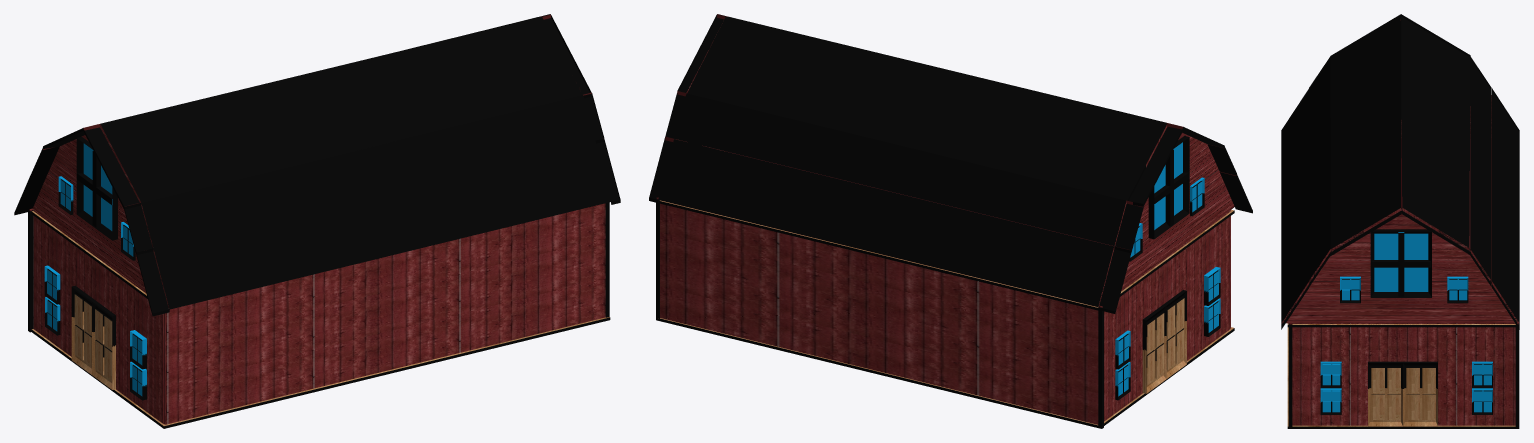
Rendered from Barn1.fbx.
The picture shows the model from 3 angles, left to right: view 1: azimuth 30°, elevation 25°; view 2: azimuth 150°, elevation 25°; view 3: azimuth 270°, elevation 25°; orthographic projection. The views are drawn at different scales.
Visible parts, largest first — view 1: Plane, Cube.002, Cube, Cube.008, Cube.001, Door.001, Door, Cube.005, Cube.010, Door.002; view 2: Plane, Cube.003, Cube, Cube.008, Cube.005, Cube.001, Door, Door.001, Door.002; view 3: Plane, Cube.004, Cube.008, Door.010, Door.011, Cube.010, Cube.001, Cube.005, Door.006, Door.013, Door.007, Door.009 (+2 smaller).
Part boxes in pixels (x1,y1,x2,y2): Plane: (14, 14, 620, 316); Cube.002: (164, 203, 605, 424); Cube: (28, 209, 163, 423); Cube.008: (76, 136, 117, 240); Cube.001: (31, 317, 610, 428); Door.001: (92, 300, 115, 389); Door: (71, 285, 95, 374); Cube.005: (31, 202, 609, 308); Cube.010: (605, 202, 609, 317); Door.002: (130, 330, 146, 369); Plane: (649, 14, 1252, 313); Cube.003: (656, 197, 1102, 424); Cube: (1098, 210, 1230, 428); Cube.008: (1145, 136, 1189, 239); Cube.005: (658, 200, 1234, 310); Cube.001: (656, 317, 1234, 428); Door: (1142, 305, 1166, 393); Door.001: (1163, 290, 1186, 378); Door.002: (1204, 267, 1220, 305); Plane: (1281, 14, 1519, 329); Cube.004: (1292, 323, 1518, 425); Cube.008: (1370, 229, 1431, 297); Door.010: (1403, 361, 1437, 426); Door.011: (1368, 361, 1402, 426); Cube.010: (1288, 323, 1519, 428); Cube.001: (1287, 327, 1515, 428); Cube.005: (1287, 323, 1515, 327); Door.006: (1320, 361, 1341, 388); Door.013: (1447, 276, 1468, 303); Door.007: (1320, 388, 1341, 414); Door.009: (1472, 361, 1492, 388).
Size of the model in its own units: 1991 by 1043 by 1018.
